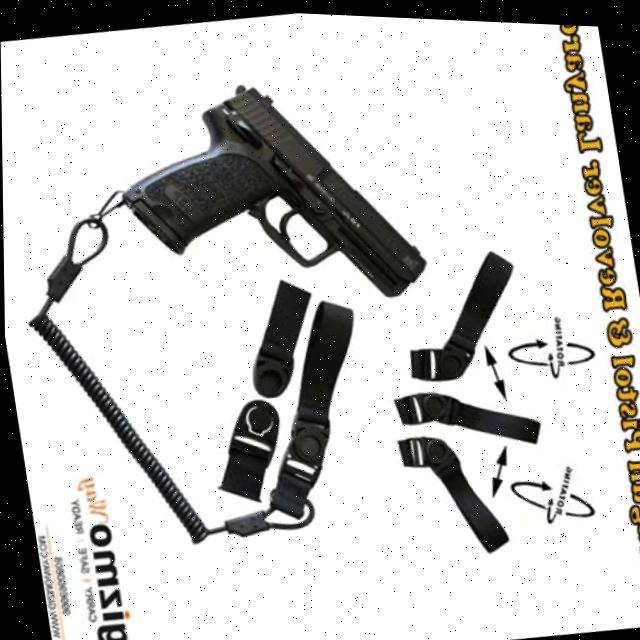pistol: (107, 55, 433, 333)
